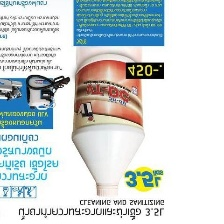cleaning_solution: (69, 51, 148, 198)
